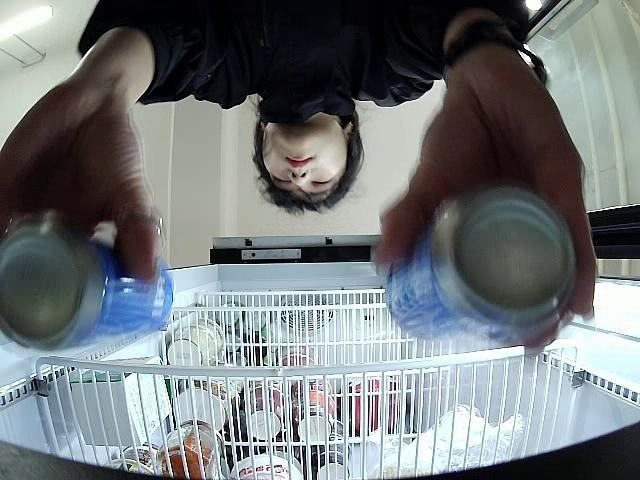15_letsbe: (381, 185, 575, 338), (0, 221, 175, 350)
